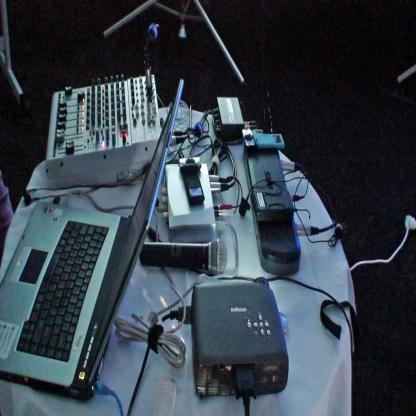board: (0, 75, 186, 396)
